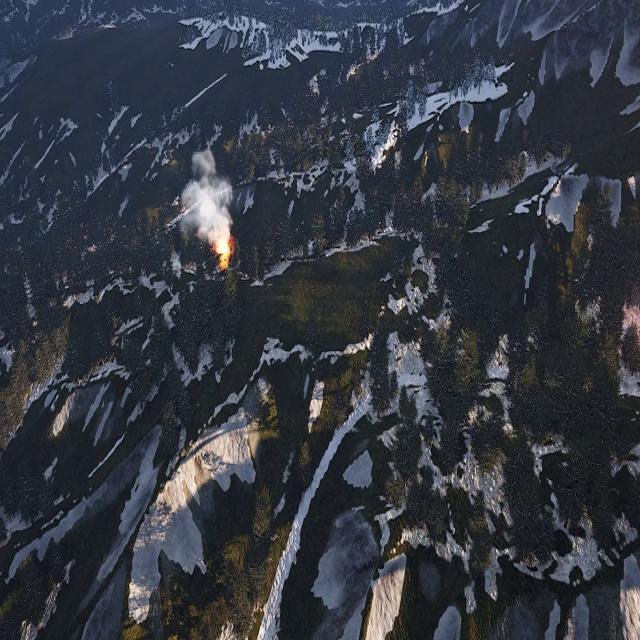fire: (214, 234, 232, 266)
smoke: (177, 147, 235, 240)
